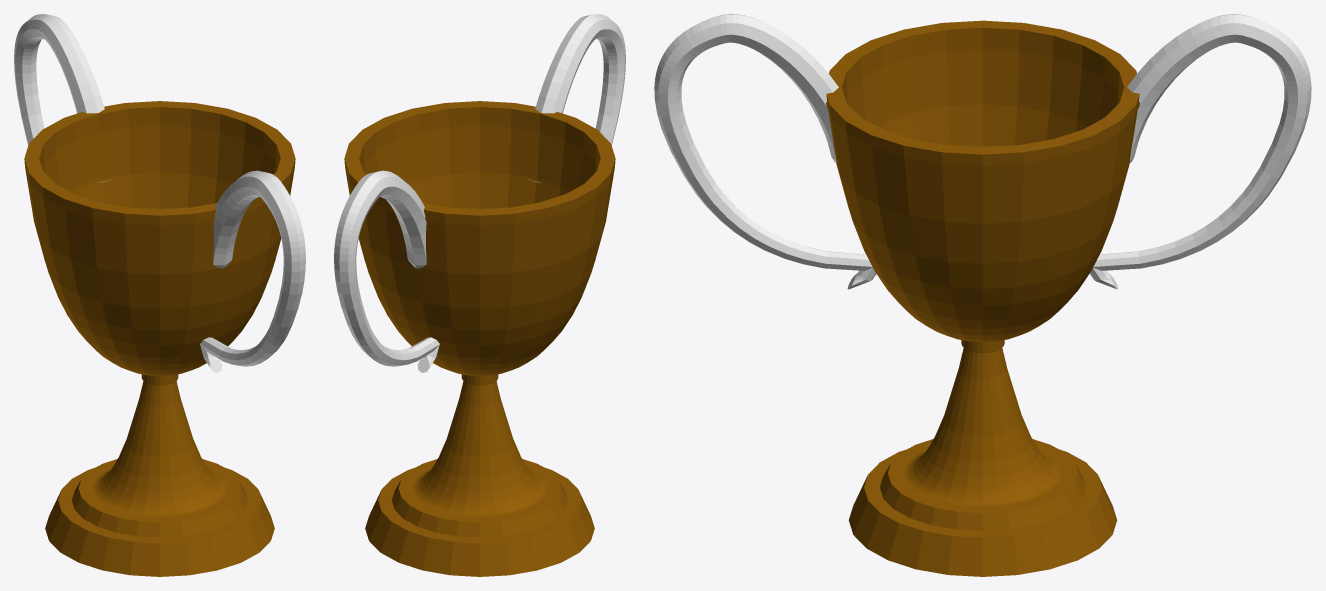
The model's file is 95-winner-cup.fbx.
3 renders of one model, left to right at view 1: azimuth 30°, elevation 25°; view 2: azimuth 150°, elevation 25°; view 3: azimuth 270°, elevation 25°, orthographic. The views are drawn at different scales.
Parts seen in each view (by area): view 1: imagetostl_mesh2, imagetostl_mesh0, imagetostl_mesh1; view 2: imagetostl_mesh2, imagetostl_mesh1, imagetostl_mesh0; view 3: imagetostl_mesh2, imagetostl_mesh0, imagetostl_mesh1.
Boxes of the visible parts, left/top/right/bottom form: imagetostl_mesh2: left=24, top=101, right=295, bottom=576; imagetostl_mesh0: left=200, top=170, right=305, bottom=372; imagetostl_mesh1: left=14, top=14, right=110, bottom=182; imagetostl_mesh2: left=344, top=101, right=615, bottom=576; imagetostl_mesh1: left=334, top=170, right=439, bottom=372; imagetostl_mesh0: left=529, top=14, right=625, bottom=182; imagetostl_mesh2: left=826, top=20, right=1139, bottom=576; imagetostl_mesh0: left=654, top=14, right=876, bottom=289; imagetostl_mesh1: left=1089, top=14, right=1311, bottom=289.
Size of the model in its own units: 19988 by 35175 by 41430.
